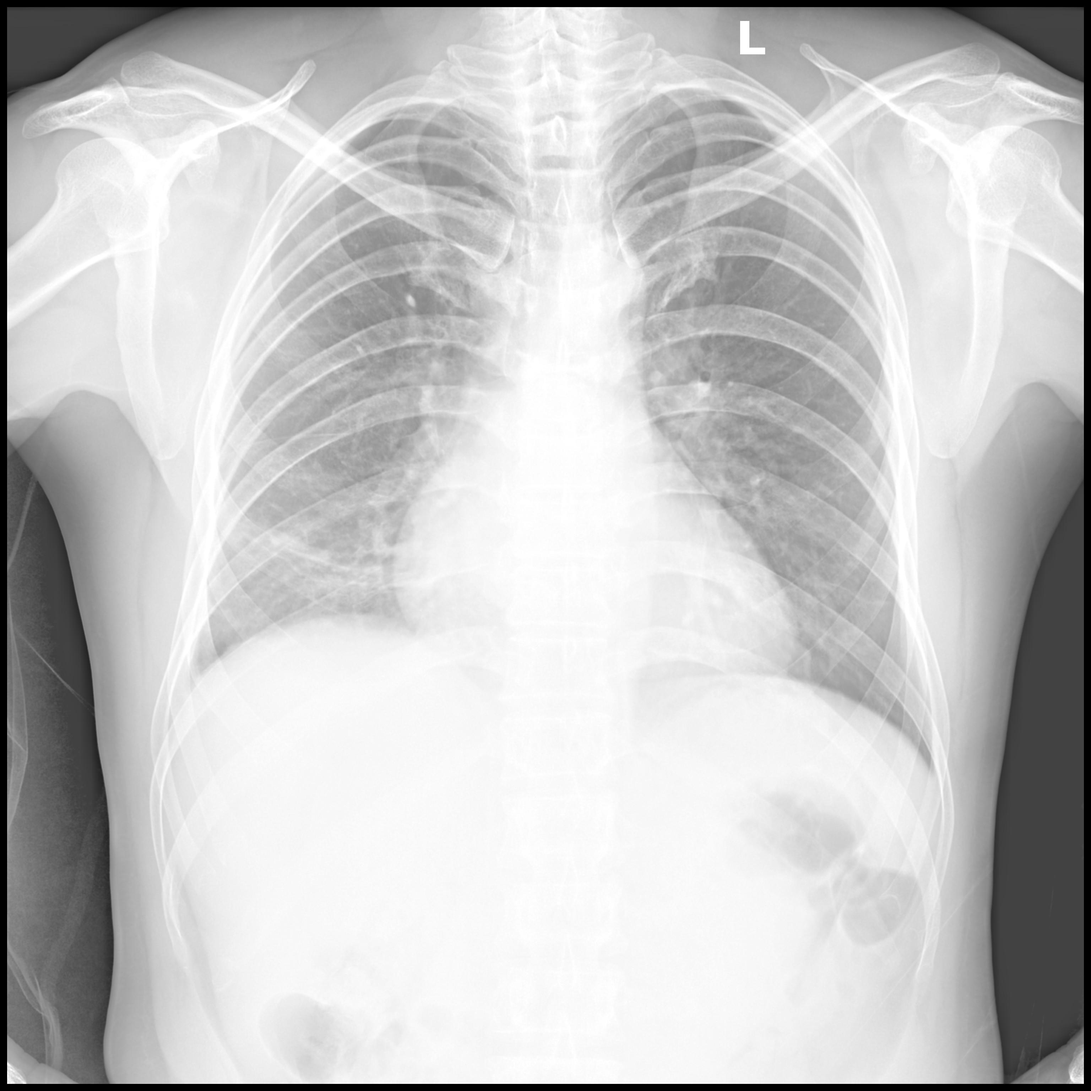Cardiomegaly: (392, 517, 798, 679)
Pleural thickening: (174, 631, 204, 713)
Pulmonary fibrosis: (240, 532, 470, 594)
